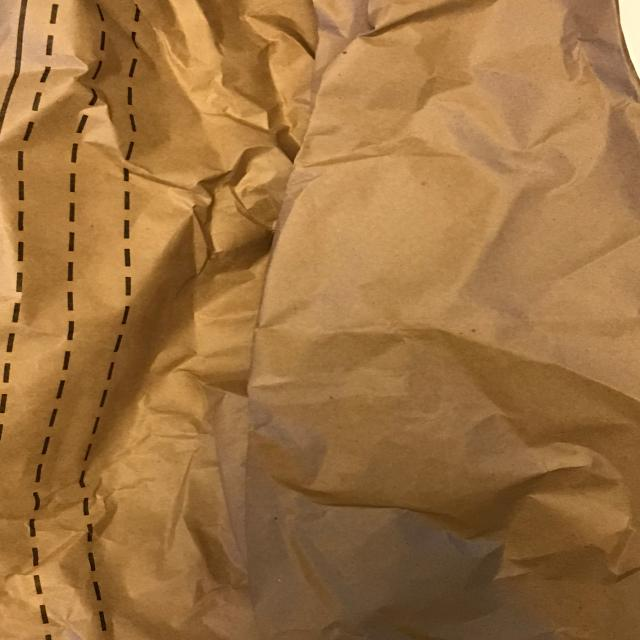paper: (1, 1, 638, 639)
